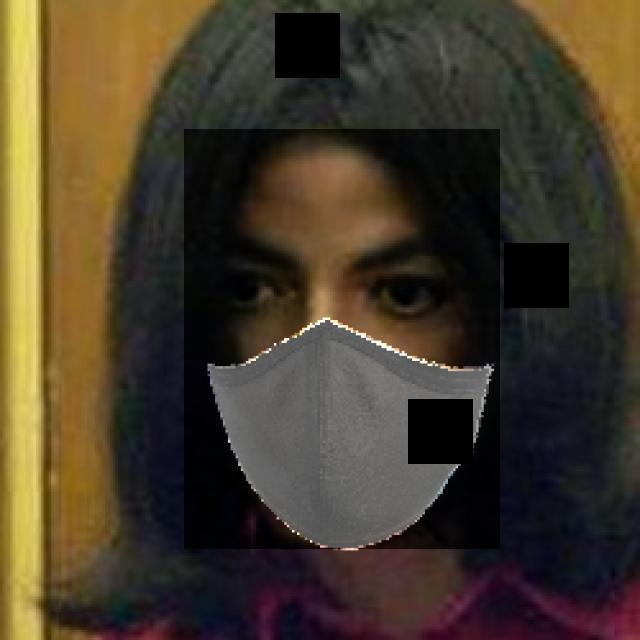cloth: (184, 129, 500, 549)
